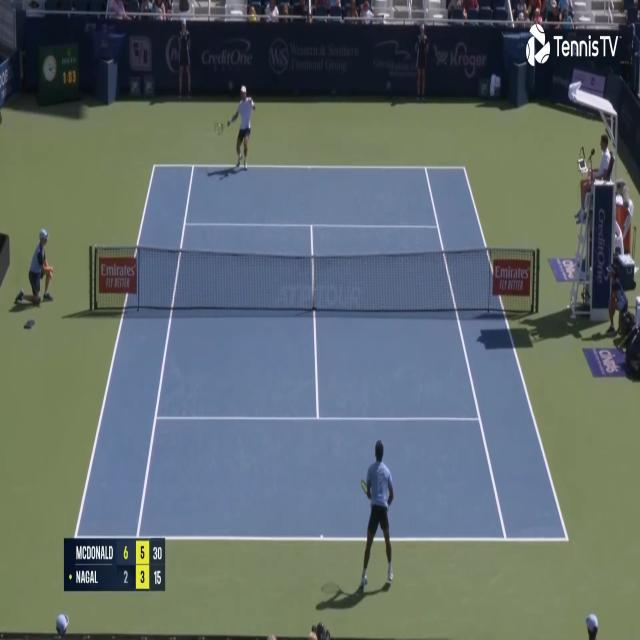tennis-player: (357, 437, 397, 600), (214, 80, 255, 175)
